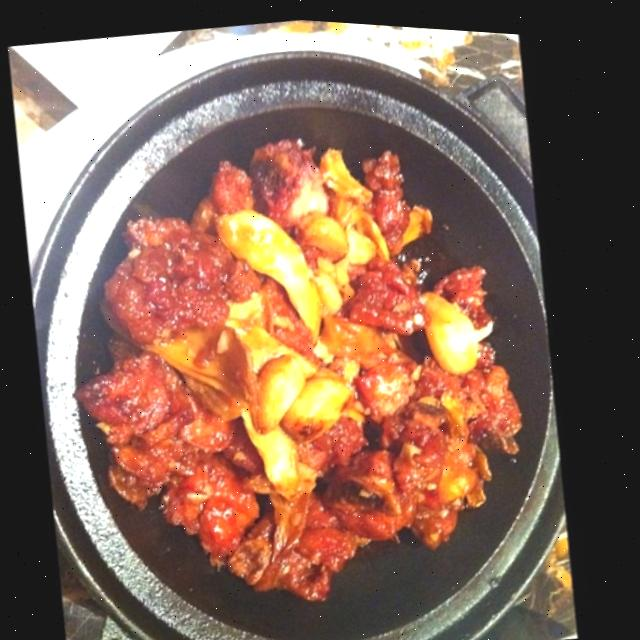鸡肉料理 含炸鸡: (0, 18, 616, 640)
